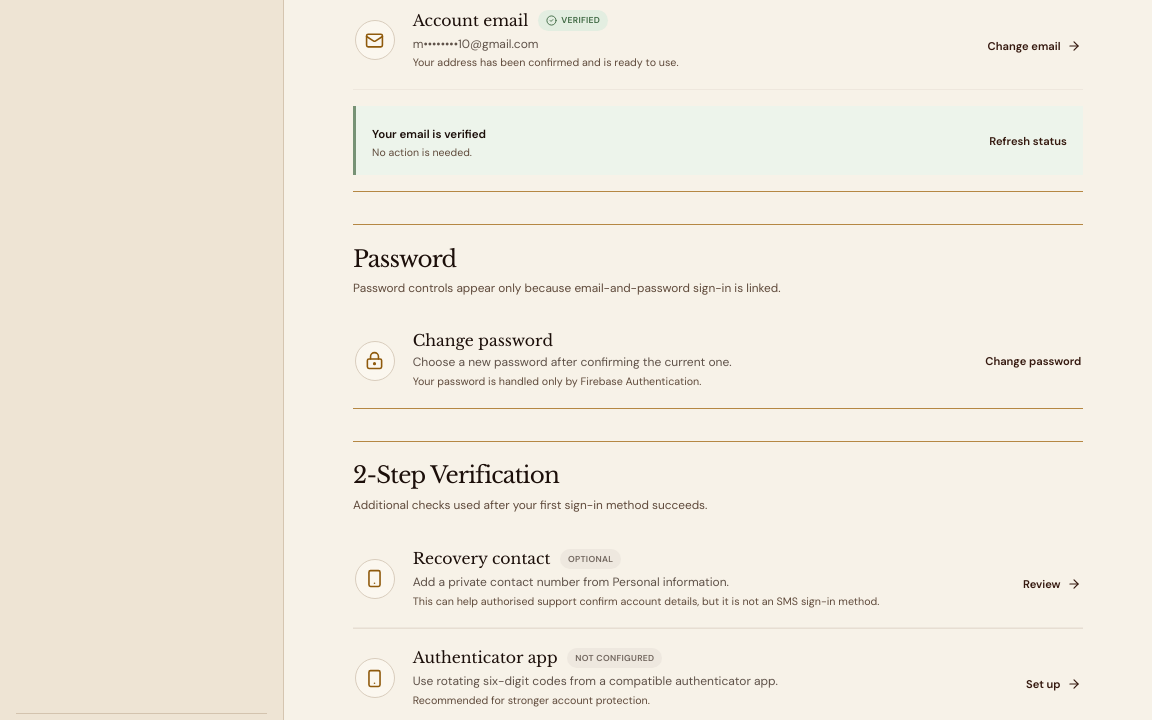
account security centre › abandons a staged password change when the dialog is closed
(page scrolled)
Click the button "Change password". click: (1033, 361)
box: [985,346,1081,375]
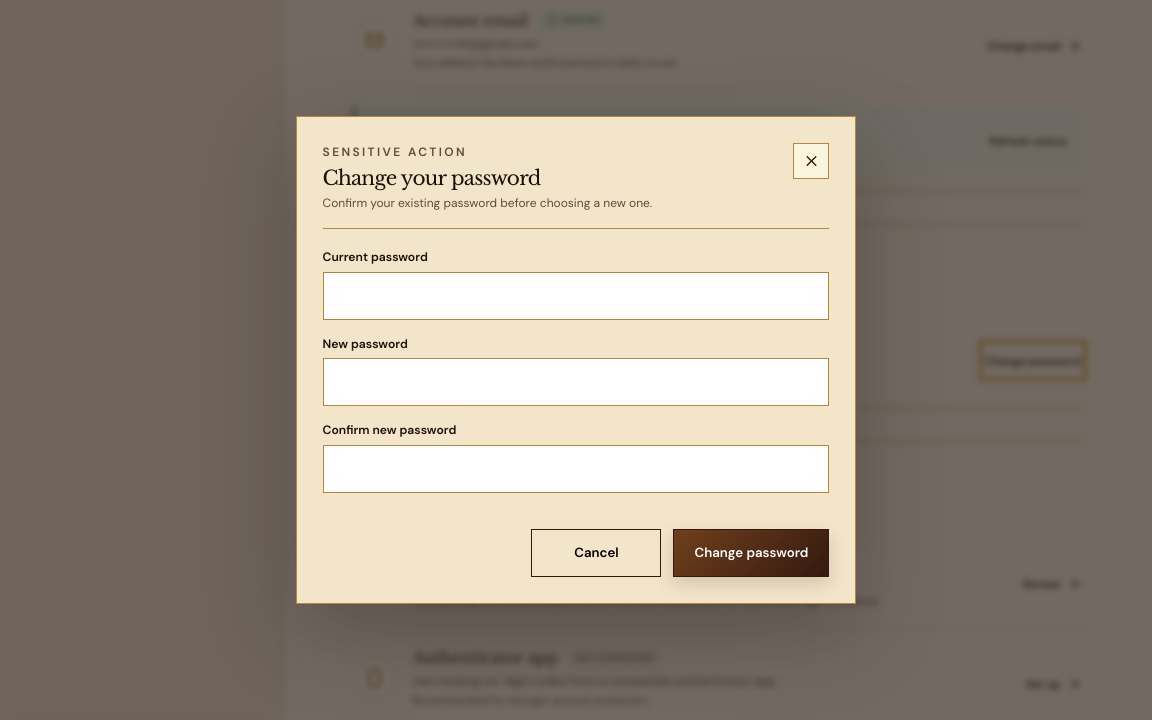
Click the button named "Close password change". click: (811, 161)
box: [793,143,829,179]
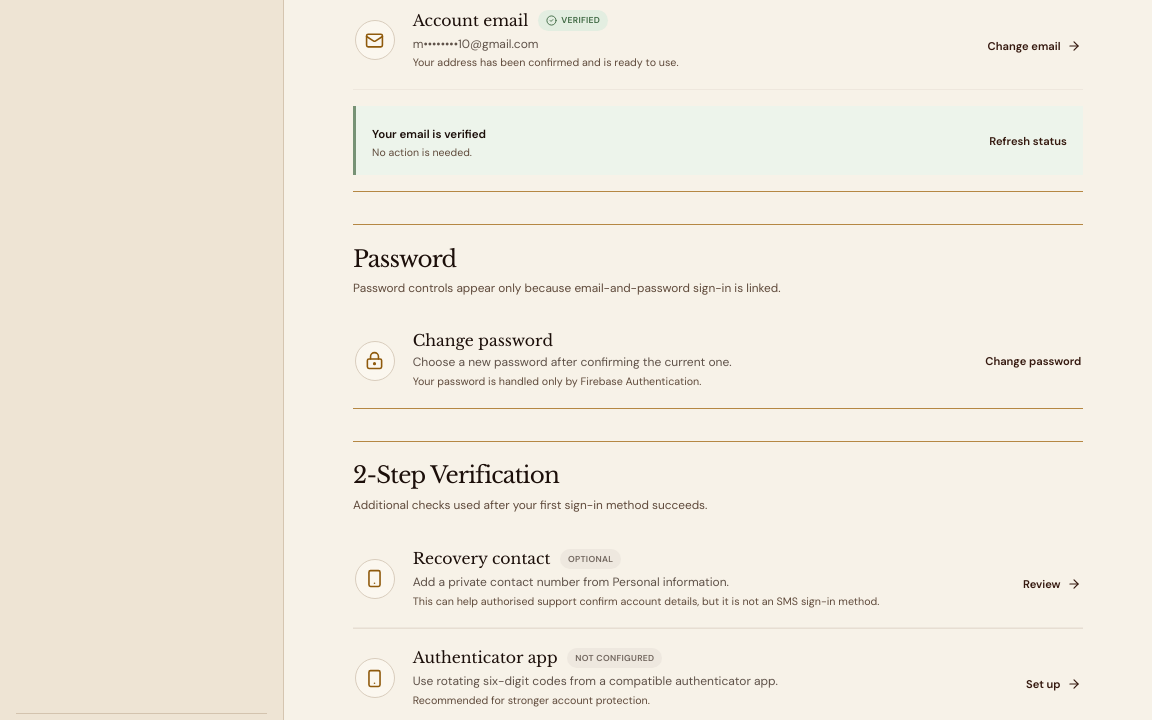
Expected: the dialog is gone
